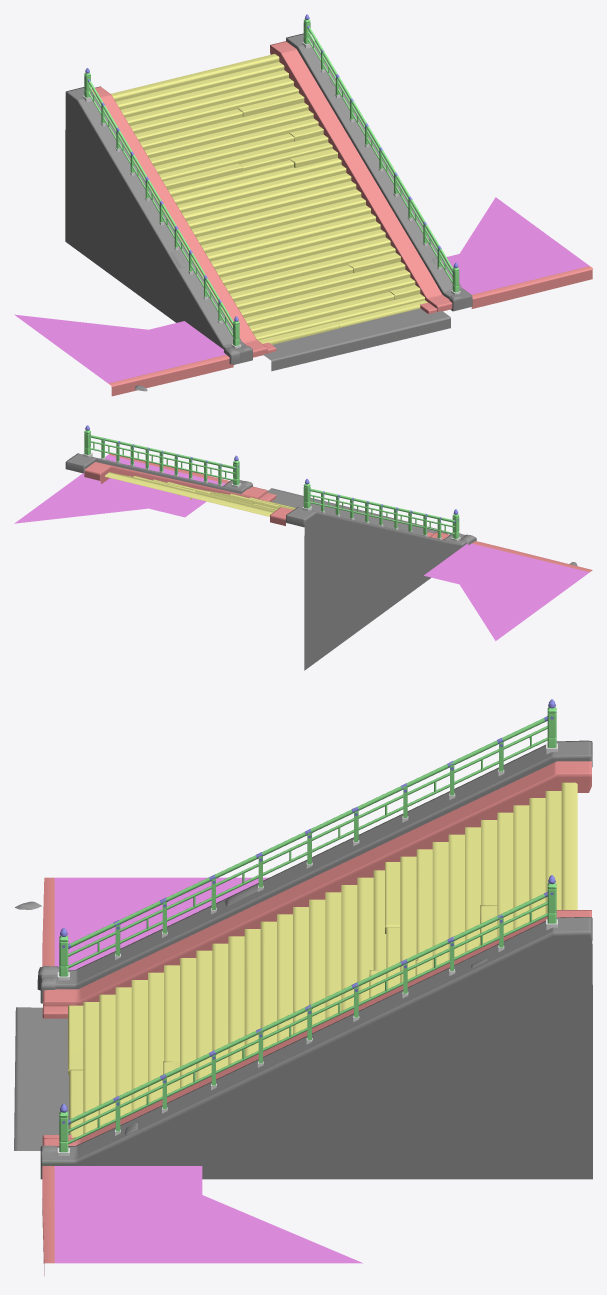
File: SM_ENV_LKNVLD_Ground_StairCase_01_Lod3.gltf
3 views of the same model, one above another, from view 1: azimuth 30°, elevation 25°; view 2: azimuth 150°, elevation 25°; view 3: azimuth 270°, elevation 25° (orthographic). The views are drawn at different scales.
Visible parts, largest first — view 1: SM_ENV_LKNVLD_Ground_StairCase_01_Lod3; view 2: SM_ENV_LKNVLD_Ground_StairCase_01_Lod3; view 3: SM_ENV_LKNVLD_Ground_StairCase_01_Lod3.
Part boxes in pixels (x1,y1,x2,y2): SM_ENV_LKNVLD_Ground_StairCase_01_Lod3: (14,14,592,396); SM_ENV_LKNVLD_Ground_StairCase_01_Lod3: (14,425,592,670); SM_ENV_LKNVLD_Ground_StairCase_01_Lod3: (14,699,592,1275).
Bounding box in the file's own units: 22.64 × 8.47 × 14.36.
